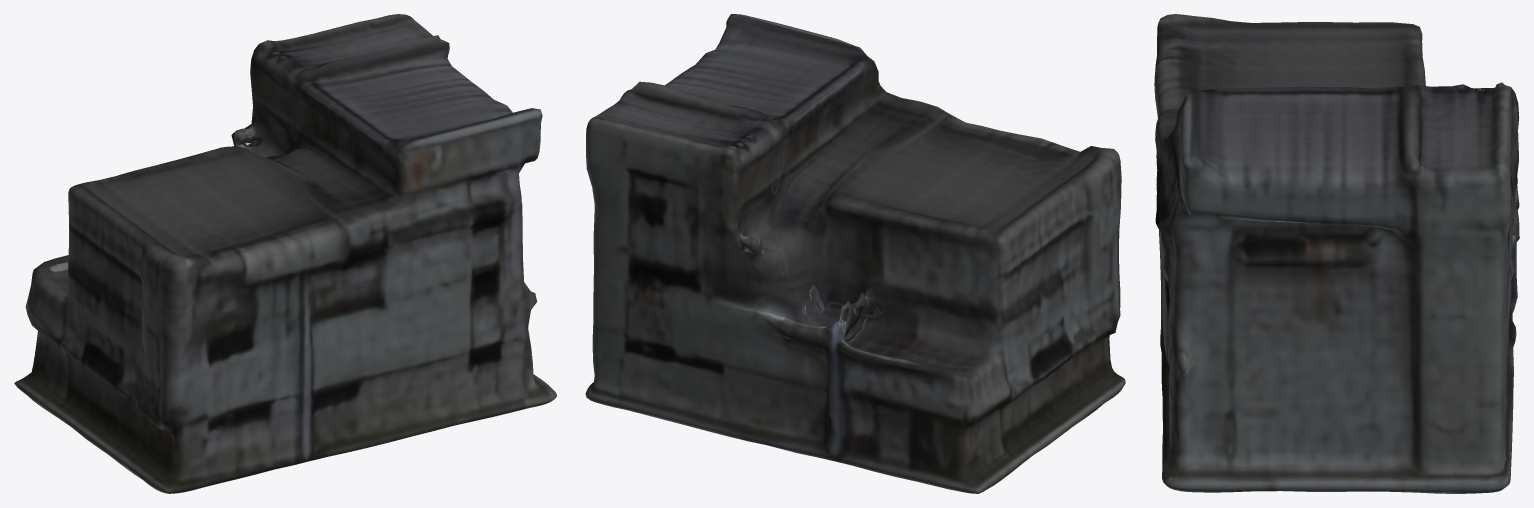
Rendered from abandoned_building4.glb.
3 renders of one model, left to right at view 1: azimuth 30°, elevation 25°; view 2: azimuth 150°, elevation 25°; view 3: azimuth 270°, elevation 25°, orthographic. The views are drawn at different scales.
Visible parts, largest first — view 1: mesh; view 2: mesh; view 3: mesh.
Boxes of the visible parts, left/top/right/bottom form: mesh: left=14, top=14, right=556, bottom=493; mesh: left=585, top=14, right=1125, bottom=493; mesh: left=1154, top=14, right=1519, bottom=493.
Bounding box in the file's own units: 0.9991 × 0.7023 × 0.6938.
Materials: 1 (1 with a texture image).
